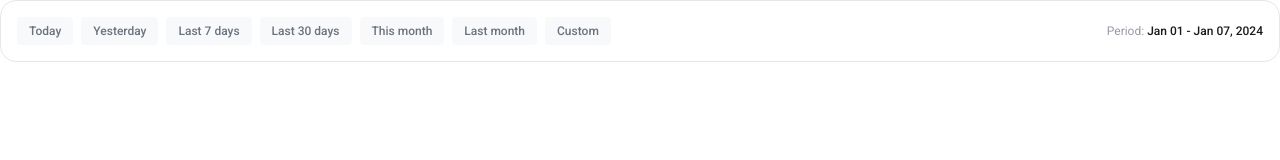
it: DateRangePicker › should disable Apply button when dates not selected
This screenshot has width=1280, height=160.
Open custom picker
Click the button "Custom" at {"x": 578, "y": 31}, box [545,17,611,45]
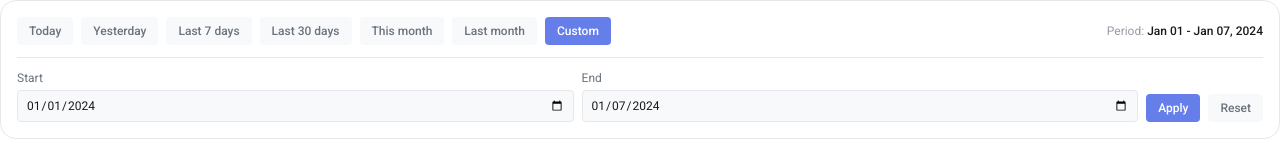
Clear dates
Clear the date field labelled "Start" at {"x": 295, "y": 106}, box [17,90,574,122]
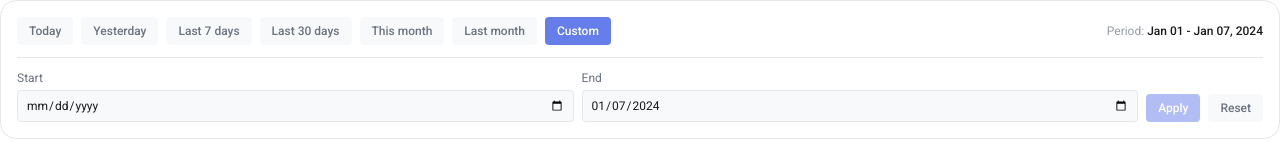
Expected: the button "Apply" is disabled, [1146,94,1200,122]
